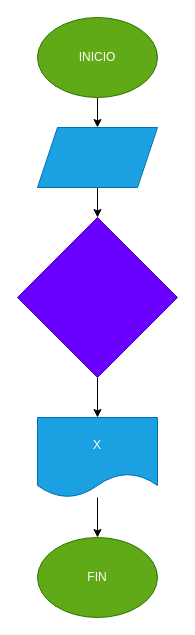
This 195x635 diagram has some shape labels left out. The box of each missing label's shape, as (x1, y1, x2, y2) in pixels:
A,B: (36, 126, 158, 188)
X = -B/A: (16, 216, 178, 378)
